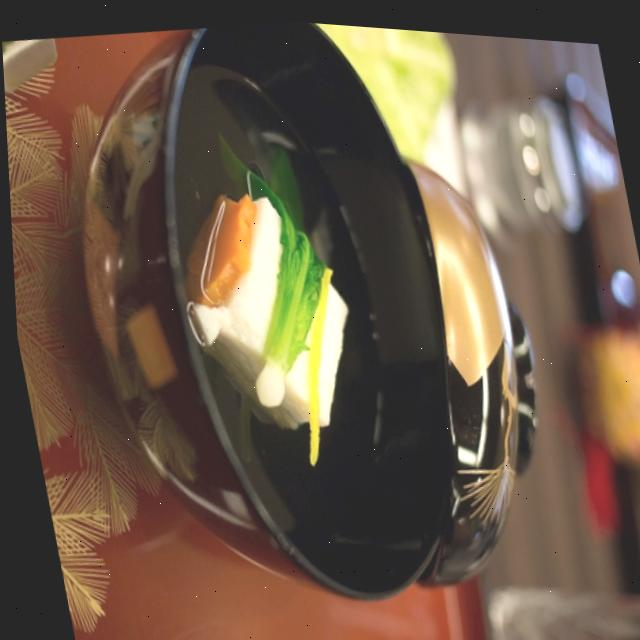汤锅炖物: (44, 3, 503, 640)
